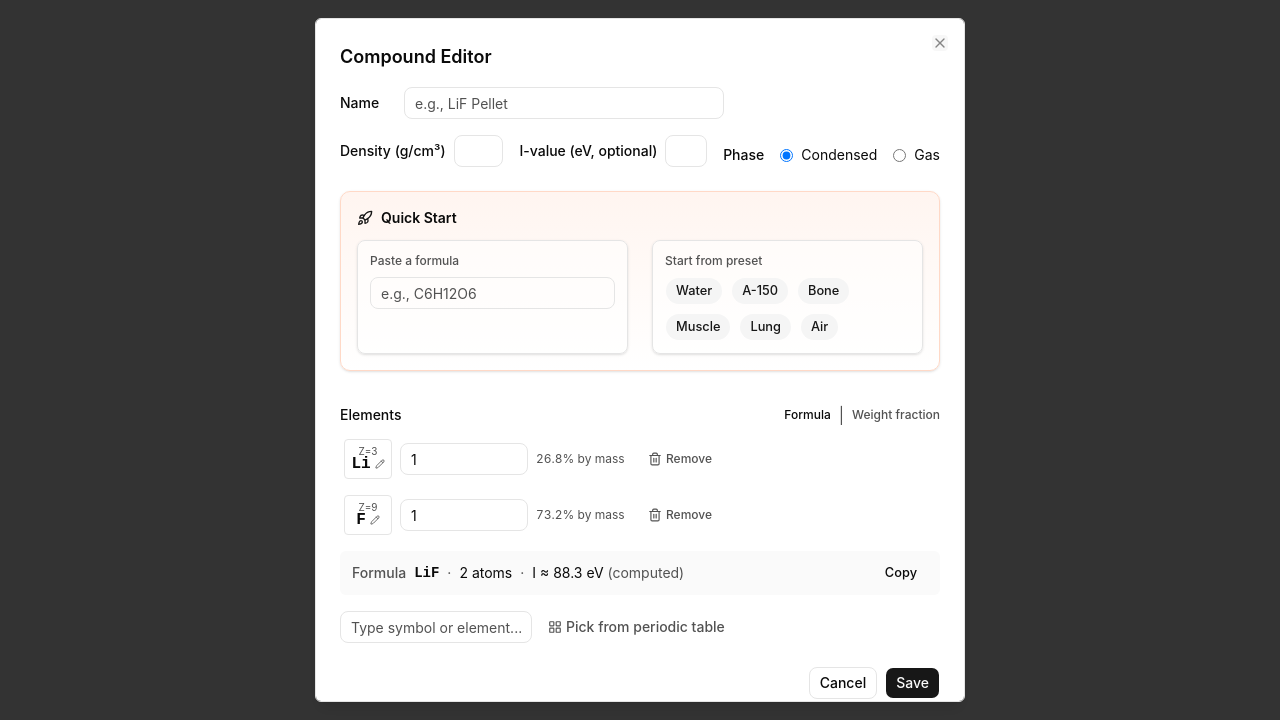
Scenario: CompoundEditorModal — Save gating & derived UI › blocks Save when density exceeds the limit
Type "Dense" into the field labelled "Name" at {"x": 564, "y": 103}, box [404,87,724,119]
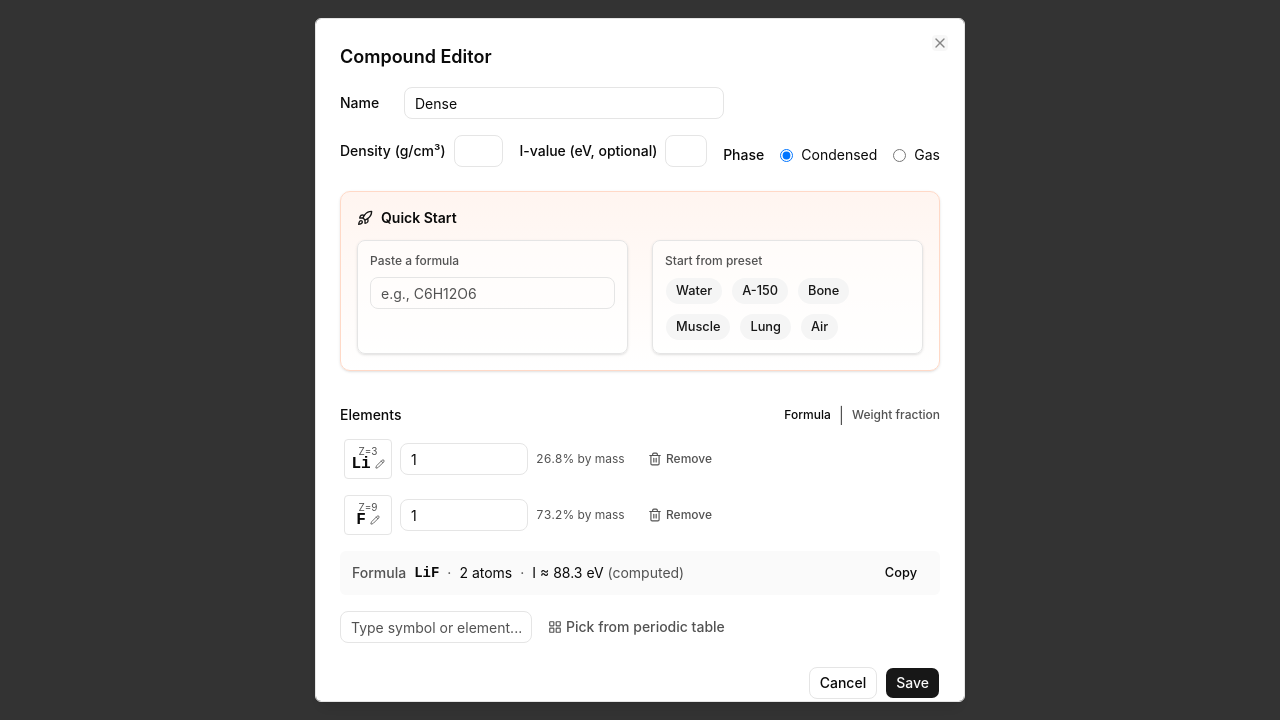
Type "30" into the number field labelled "Density (g/cm³)" at {"x": 479, "y": 151}, box [454,135,504,167]
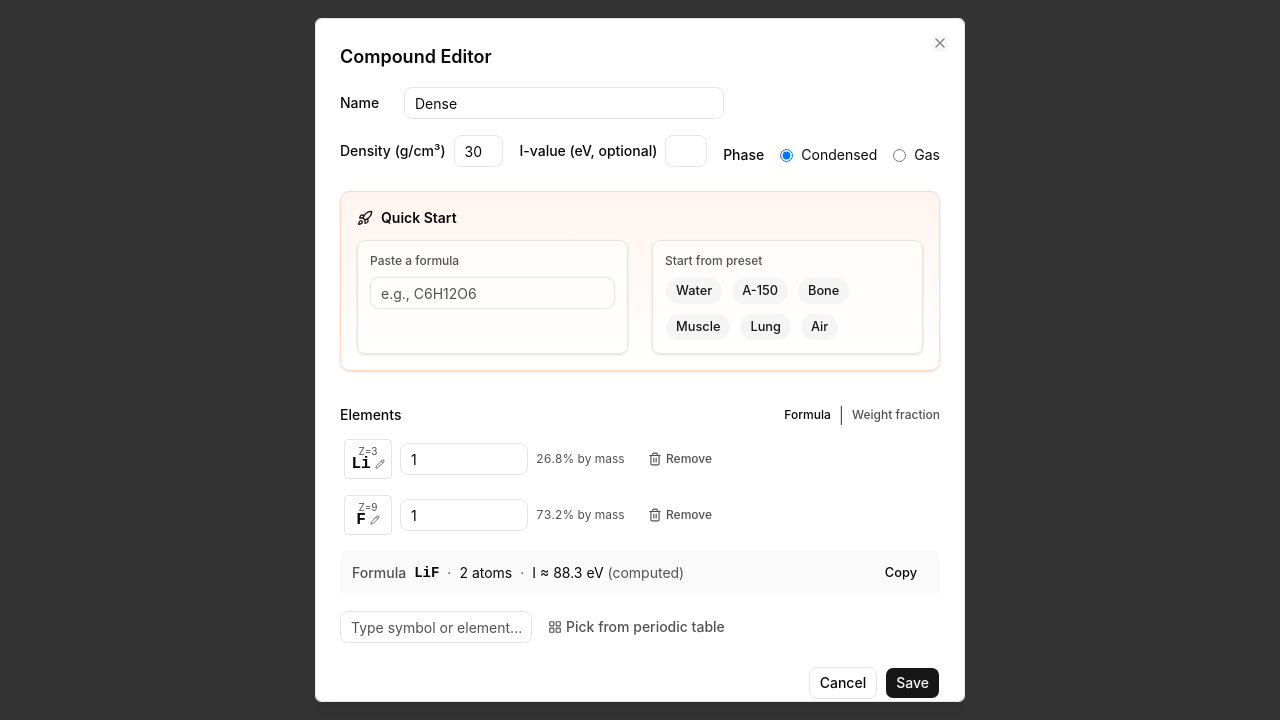
Click the button "Save" at {"x": 913, "y": 683}, box [885,667,940,699]
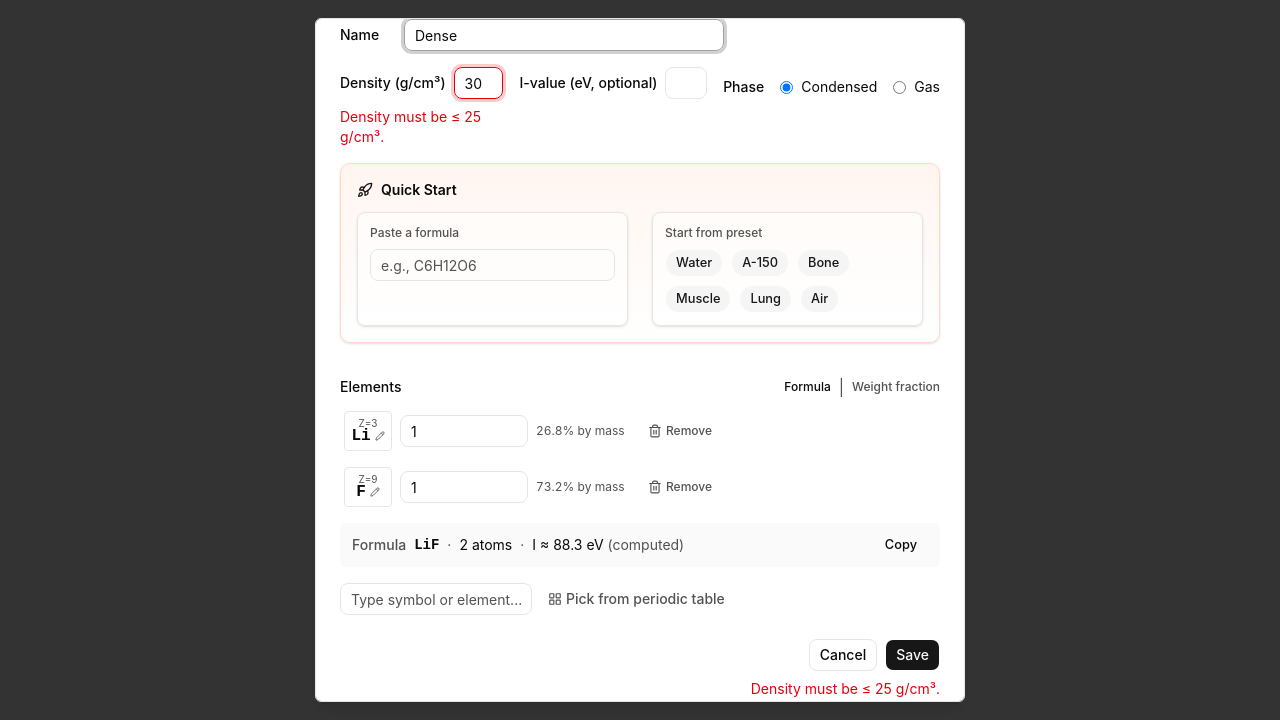
Expected: the message with test id "compound-save-block-reason" shows "Density must be", [751,680,940,697]
